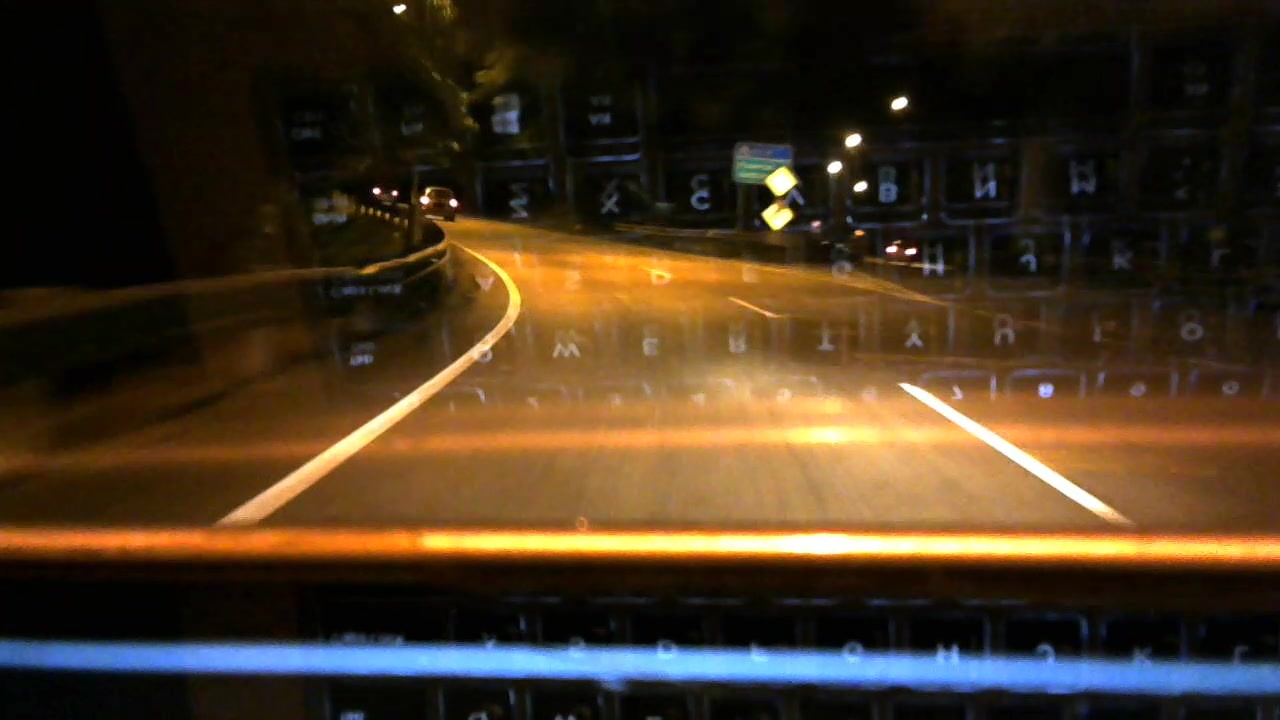Car: (412, 183, 466, 219), (873, 236, 924, 264)
